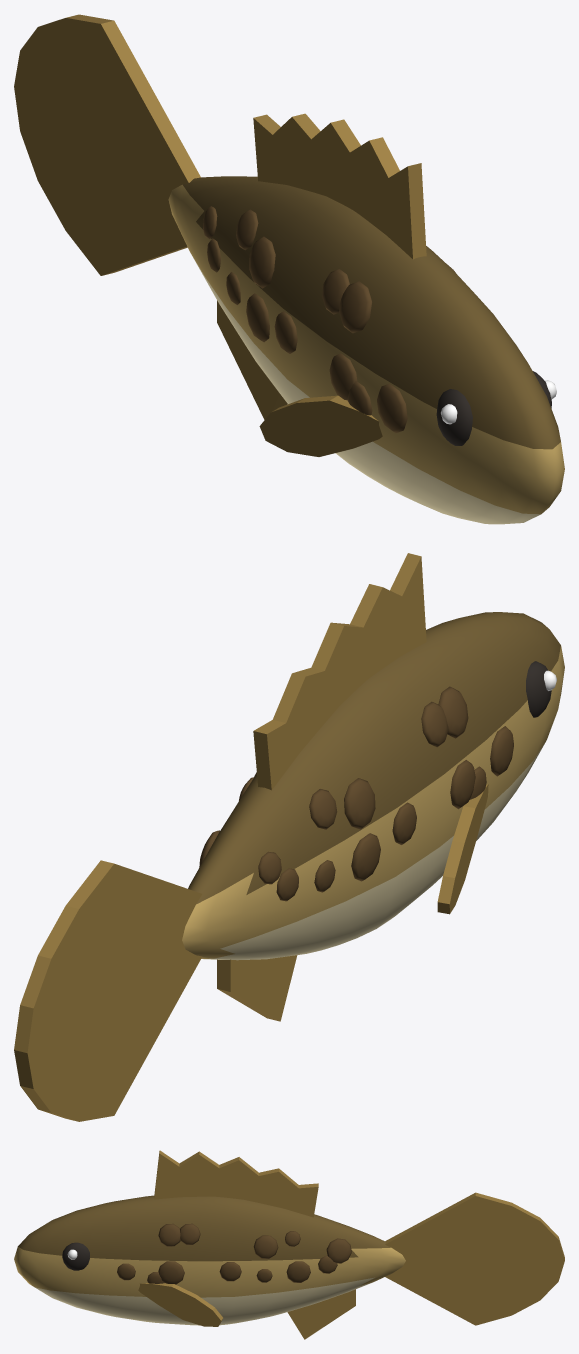
Rendered from fish-mandarin-fish.glb.
The picture shows the model from 3 angles, top to bottom: view 1: azimuth 30°, elevation 25°; view 2: azimuth 150°, elevation 25°; view 3: azimuth 270°, elevation 25°; orthographic projection. The views are drawn at different scales.
Visible parts, largest first — view 1: fish; view 2: fish; view 3: fish.
Part boxes in pixels (x1,y1,x2,y2): fish: [14, 14, 564, 524]; fish: [14, 553, 564, 1121]; fish: [14, 1150, 564, 1339].
Bounding box in the file's own units: 0.0841 × 0.153 × 0.41.
